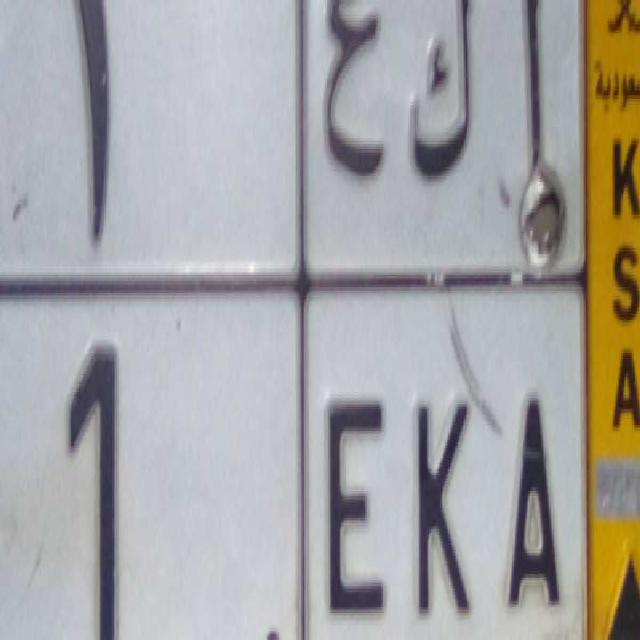license_plate: (0, 273, 588, 640)
